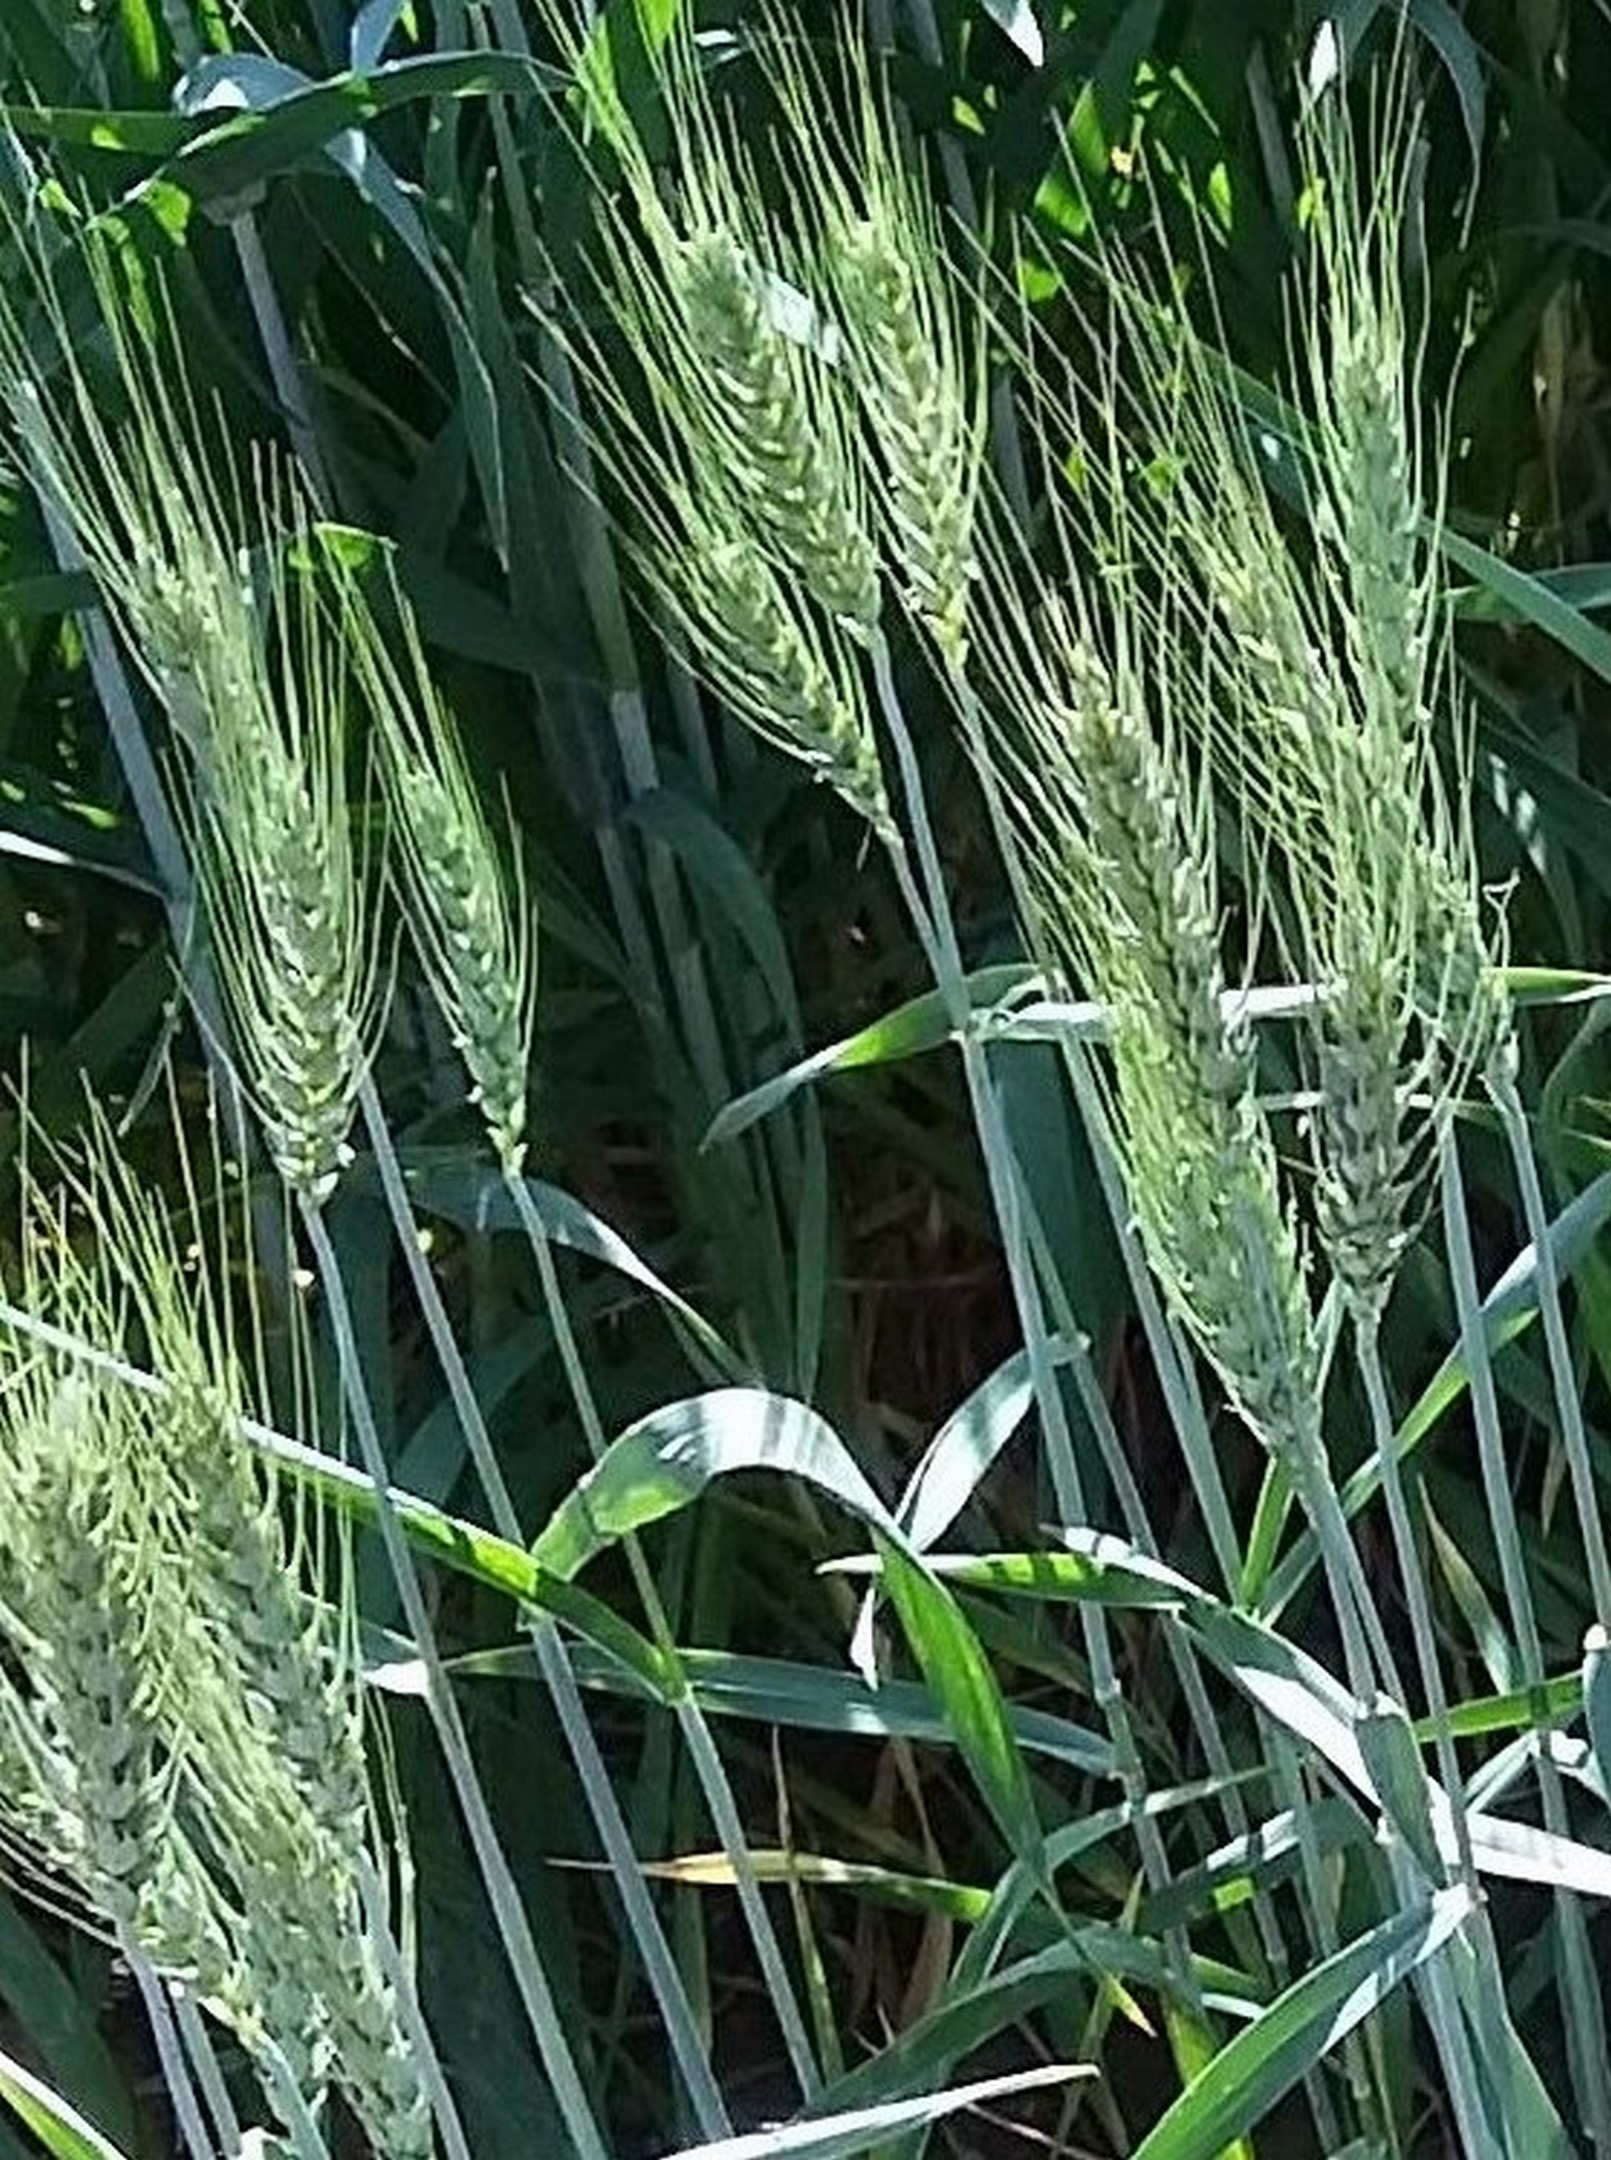Healthy Wheat: (27, 1326, 389, 1947), (215, 731, 592, 1194), (628, 191, 1010, 616), (1034, 668, 1288, 1094)
